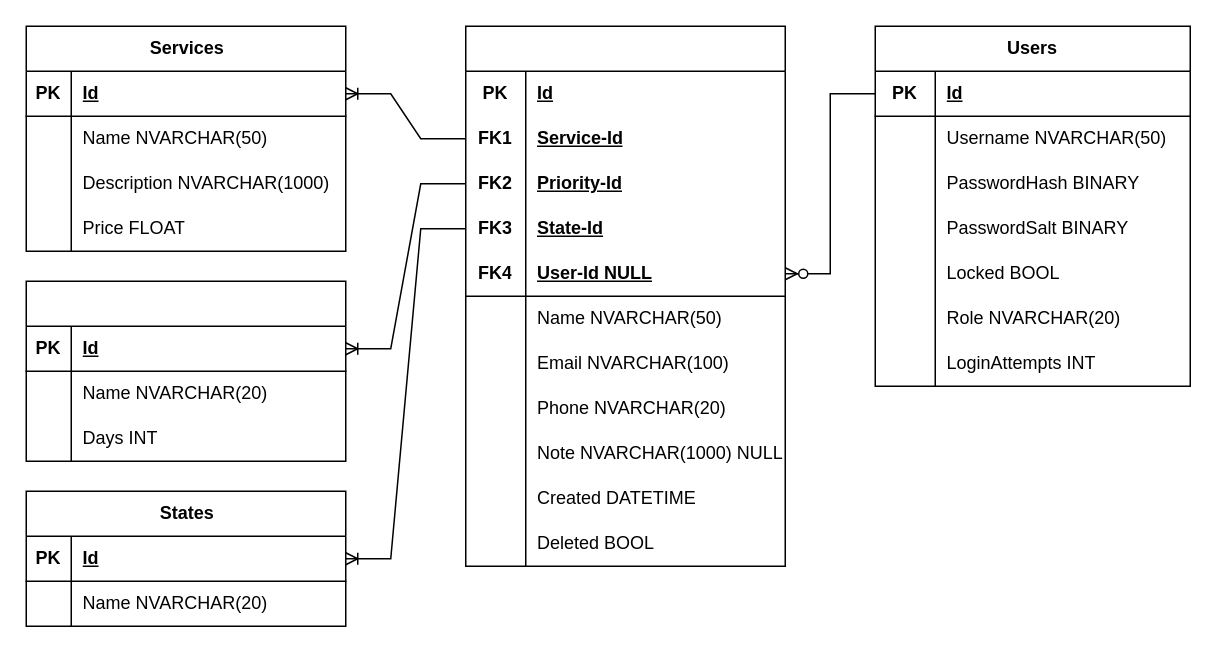
This 1217x653 diagram has some shape labels left out. The shapes that lost their labels are listed below. From the top down, each one's box as (x1, y1, x2, y2) in pixels, then its label:
(464, 25, 785, 566): Orders
(25, 280, 346, 461): Priorities
